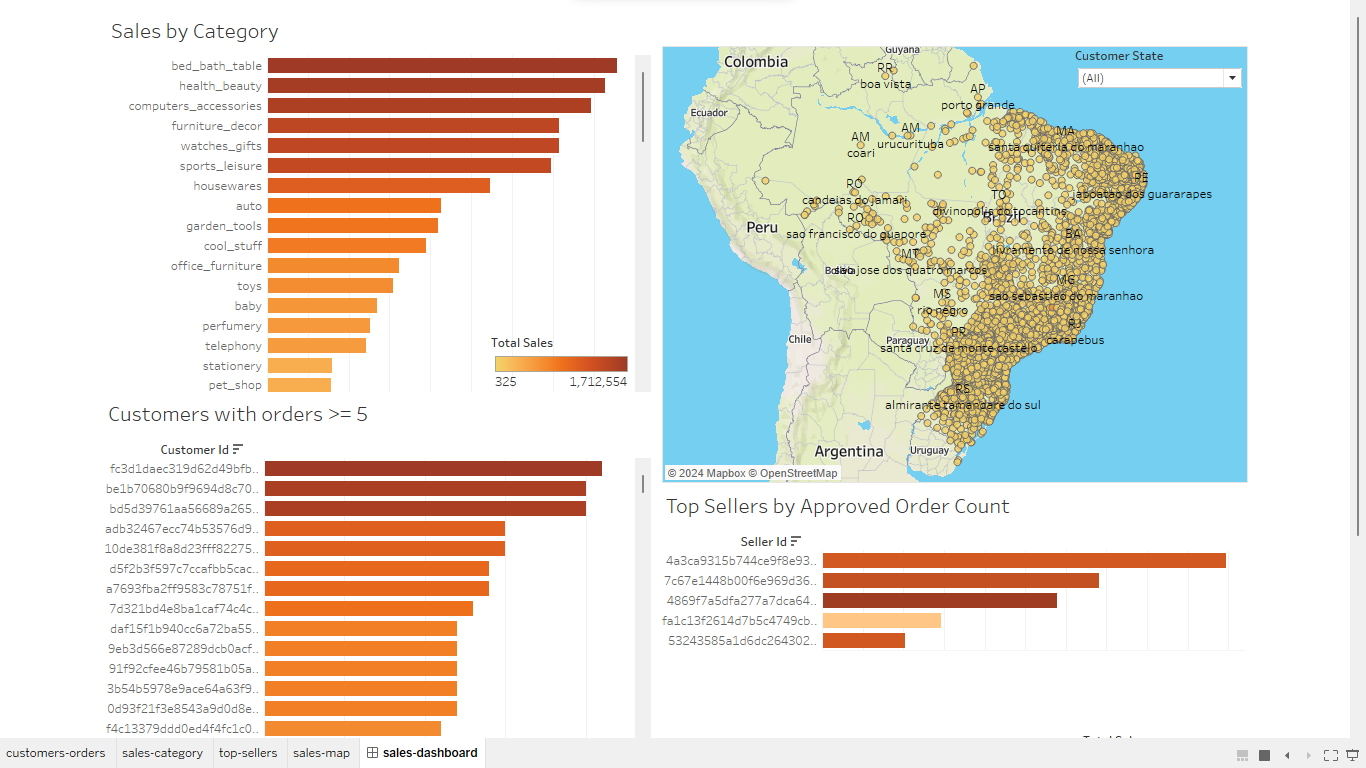

This screenshot's page, from the dashboard's own definition file:
{"tool":"tableau","page":{"name":"sales-dashboard","canvas":[1000,1000],"units":"permille","ordinal":0},"visuals":[{"type":"worksheet","title":"sales-category","mark":"Bar","rows":["category_name"],"cols":["total_sales"],"box":[7,11.7,473.2,380]},{"type":"worksheet","title":"sales-map","mark":"Multipolygon","box":[489.9,45.8,509.2,436.7]},{"type":"filter","title":"sales-map","param":"[federated.1b60z090pyi3k417tk3hp1wsdxvz].[none:customer_state:nk]","box":[849,46.7,147.5,47.5]},{"type":"legend","title":"sales-category","param":"[federated.1vl6zz01gc928j159rz2000m8krc].[sum:total_sales:qk]","box":[340.7,334.2,122.9,55.8]},{"type":"worksheet","title":"customers-orders","mark":"Automatic","rows":["customer_id"],"cols":["order_count"],"box":[4.4,395,475.9,403.3]},{"type":"worksheet","title":"top-sellers","mark":"Bar","rows":["seller_id"],"cols":["cnt_approved_order"],"box":[489.9,486.7,507.5,310.8]},{"type":"legend","title":"top-sellers","param":"[federated.1knavtp0txp7wm14pgf6m0a3c8cv].[sum:total_sales:qk]","box":[856,731.7,122.9,63.3]},{"type":"legend","title":"customers-orders","param":"[federated.0mvl2du0ipe30710rjjt2080n5wt].[sum:order_count:qk]","box":[340.7,737.5,122.9,56.7]}]}

Visuals, with their boxes on the dashboard's canvas, which has no fixed pixel size, in thousandths of its width and height (x1, y1, x2, y2). These are canvas units, not pixel positions in the 1366x768 screenshot, which may show the page scaled, cropped or inside an application window:
"sales-category" worksheet (Bar marks): [x1=7, y1=12, x2=480, y2=392]
"sales-map" worksheet (Multipolygon marks): [x1=490, y1=46, x2=999, y2=482]
"sales-map" filter: [x1=849, y1=47, x2=996, y2=94]
"sales-category" legend: [x1=341, y1=334, x2=464, y2=390]
"customers-orders" worksheet: [x1=4, y1=395, x2=480, y2=798]
"top-sellers" worksheet (Bar marks): [x1=490, y1=487, x2=997, y2=798]
"top-sellers" legend: [x1=856, y1=732, x2=979, y2=795]
"customers-orders" legend: [x1=341, y1=738, x2=464, y2=794]
